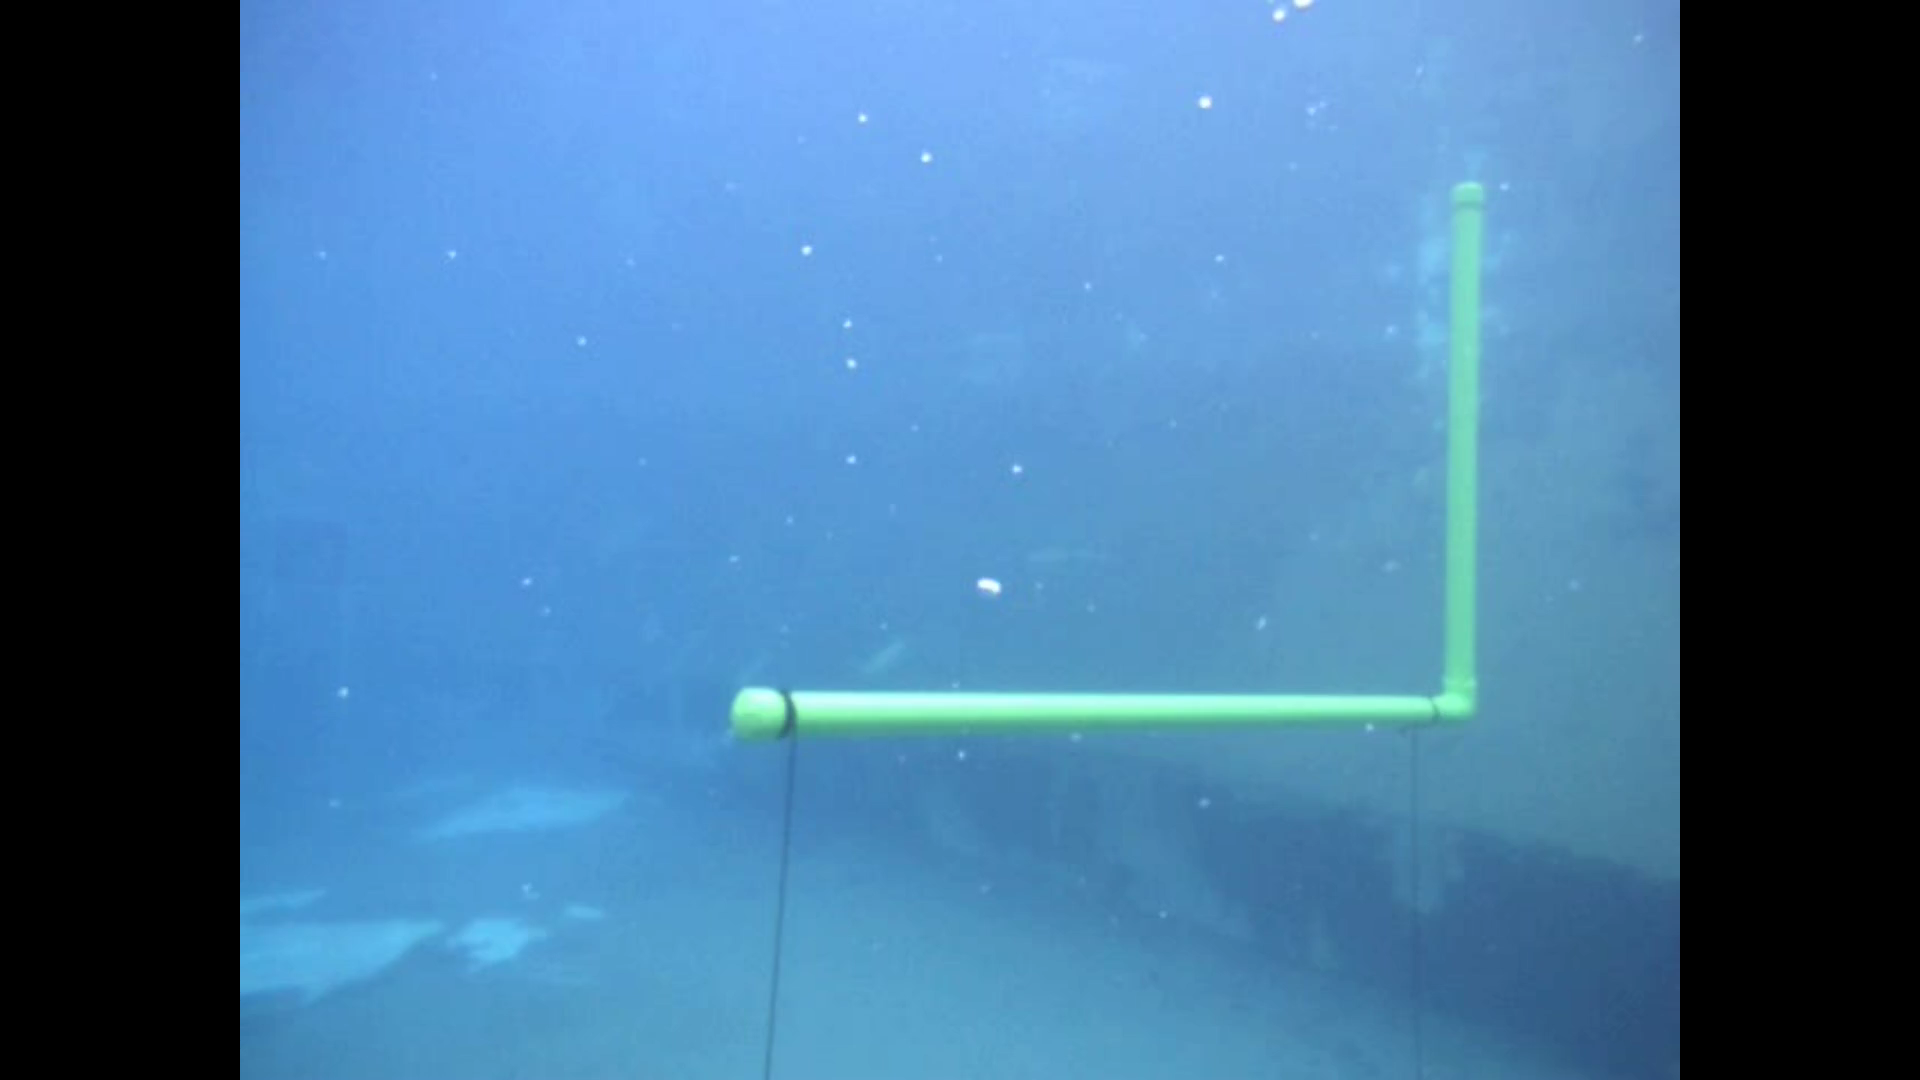gate: (721, 175, 1491, 746)
